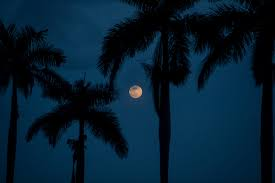moon: (128, 84, 143, 99)
